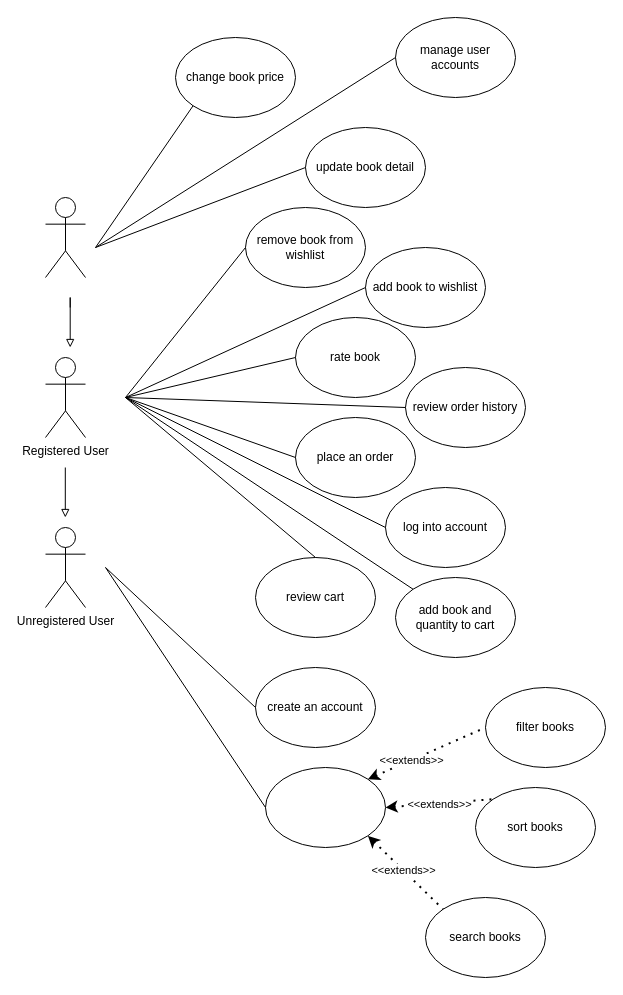
The diagram is 623 pixels wide and 995 high, and some of its shapes have lost their labels. The shapes that lost their labels are listed below. From the top down, each one's box as (x1, y1, x2, y2) in pixels, then its label:
(44, 196, 86, 278): Admin
(264, 766, 386, 848): browse book store
